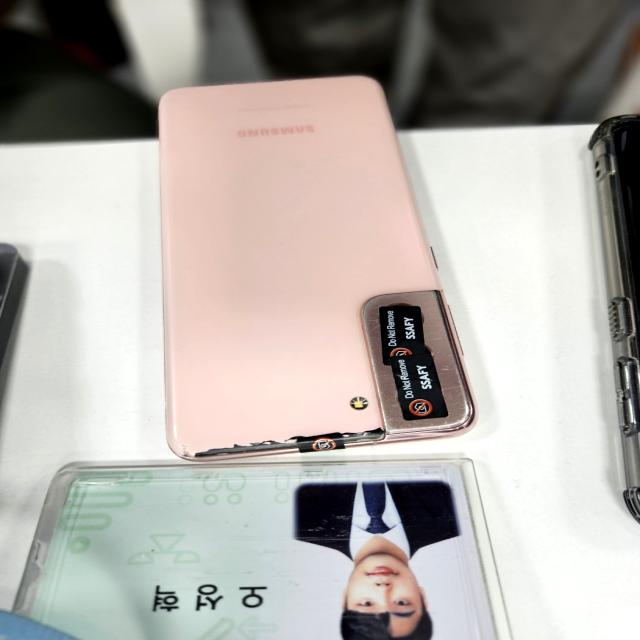phone: (155, 77, 486, 467)
sticker: (388, 355, 451, 426), (374, 298, 432, 374)
